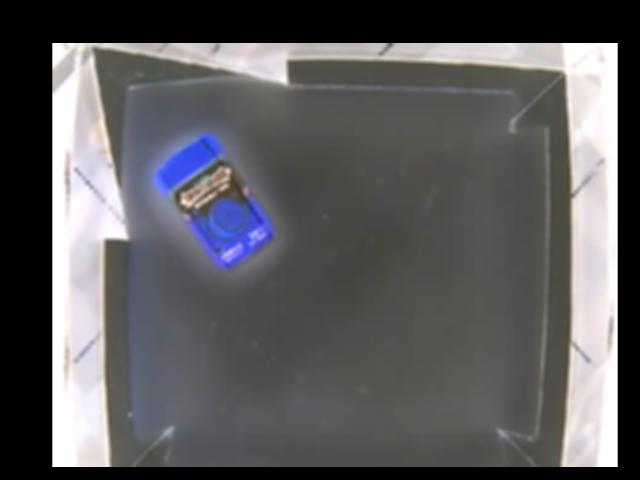Bottle: (153, 134, 282, 276)
